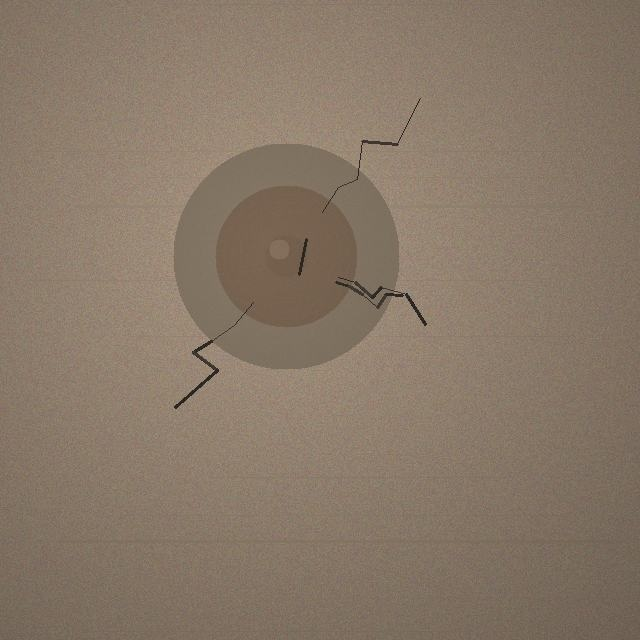crack: (173, 143, 399, 369)
